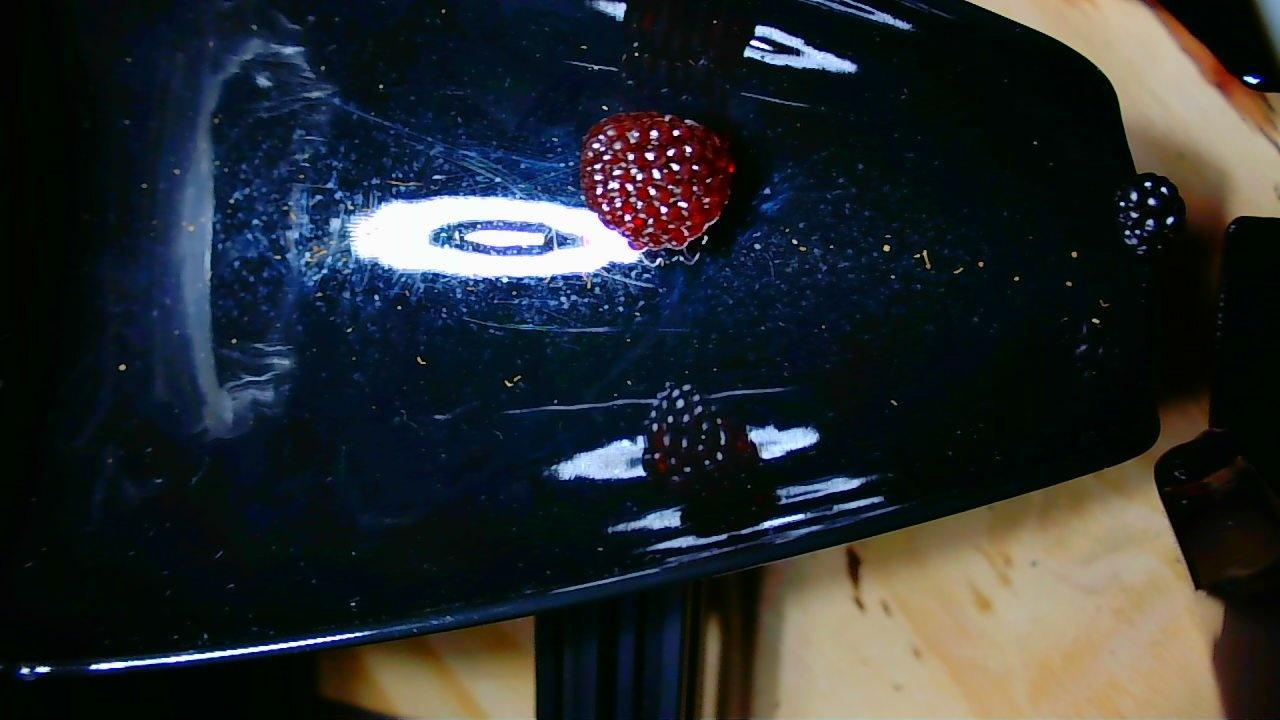berry: (580, 112, 735, 249), (1114, 174, 1184, 253)
